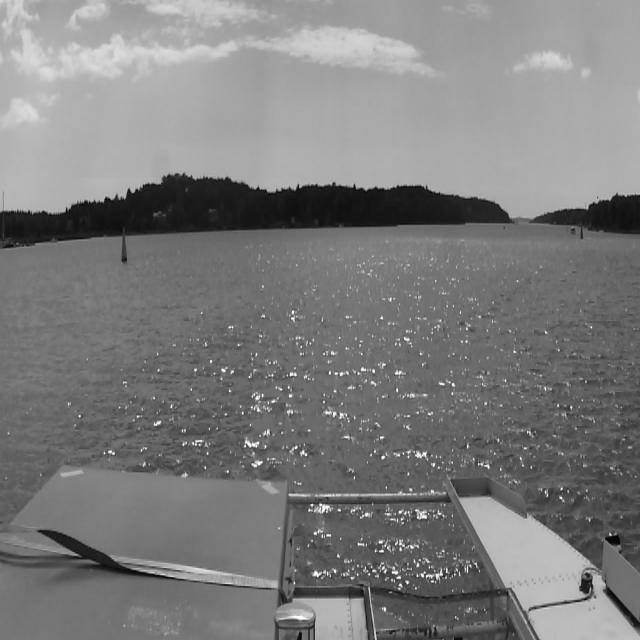buoy: (118, 219, 130, 271), (580, 220, 584, 242), (566, 224, 568, 236), (502, 225, 506, 231)
ship: (570, 224, 576, 236)
